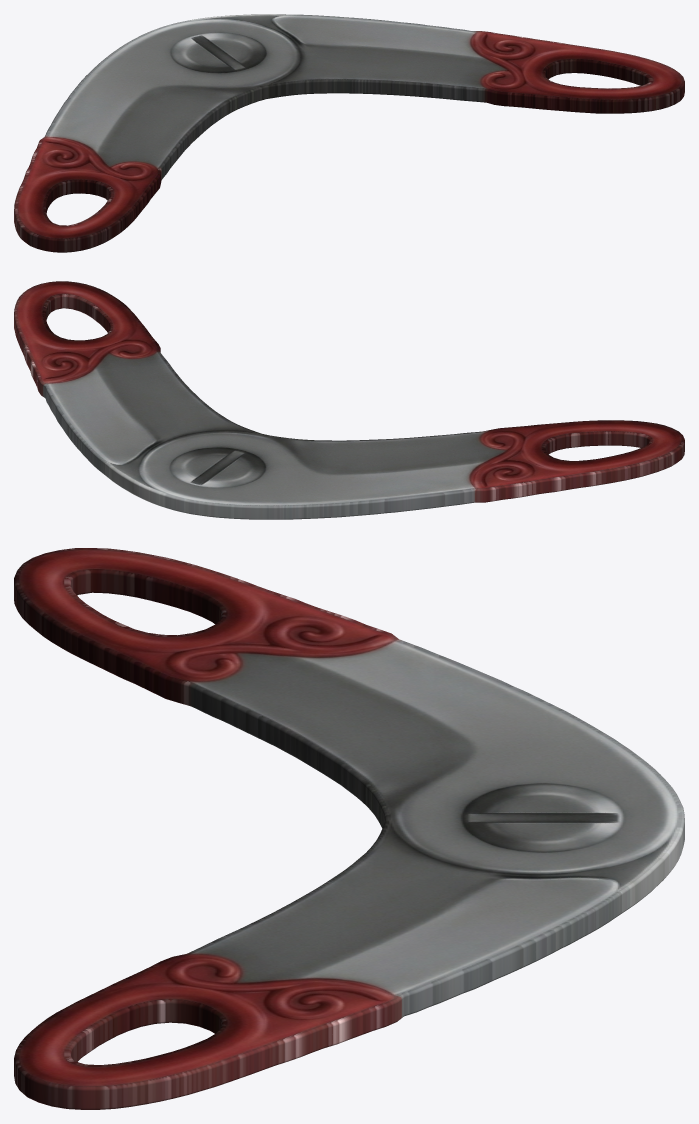
File: Boomerang_38.fbx
3 renders of one model, top to bottom at view 1: azimuth 30°, elevation 25°; view 2: azimuth 150°, elevation 25°; view 3: azimuth 270°, elevation 25°, orthographic. The views are drawn at different scales.
Visible parts, largest first — view 1: Boomerang_38; view 2: Boomerang_38; view 3: Boomerang_38.
Boxes of the visible parts, left/top/right/bottom form: Boomerang_38: left=14, top=14, right=684, bottom=252; Boomerang_38: left=14, top=281, right=684, bottom=519; Boomerang_38: left=14, top=548, right=684, bottom=1109.
Bounding box in the file's own units: 201 × 3.9 × 105.
1 material, 1 textured.
